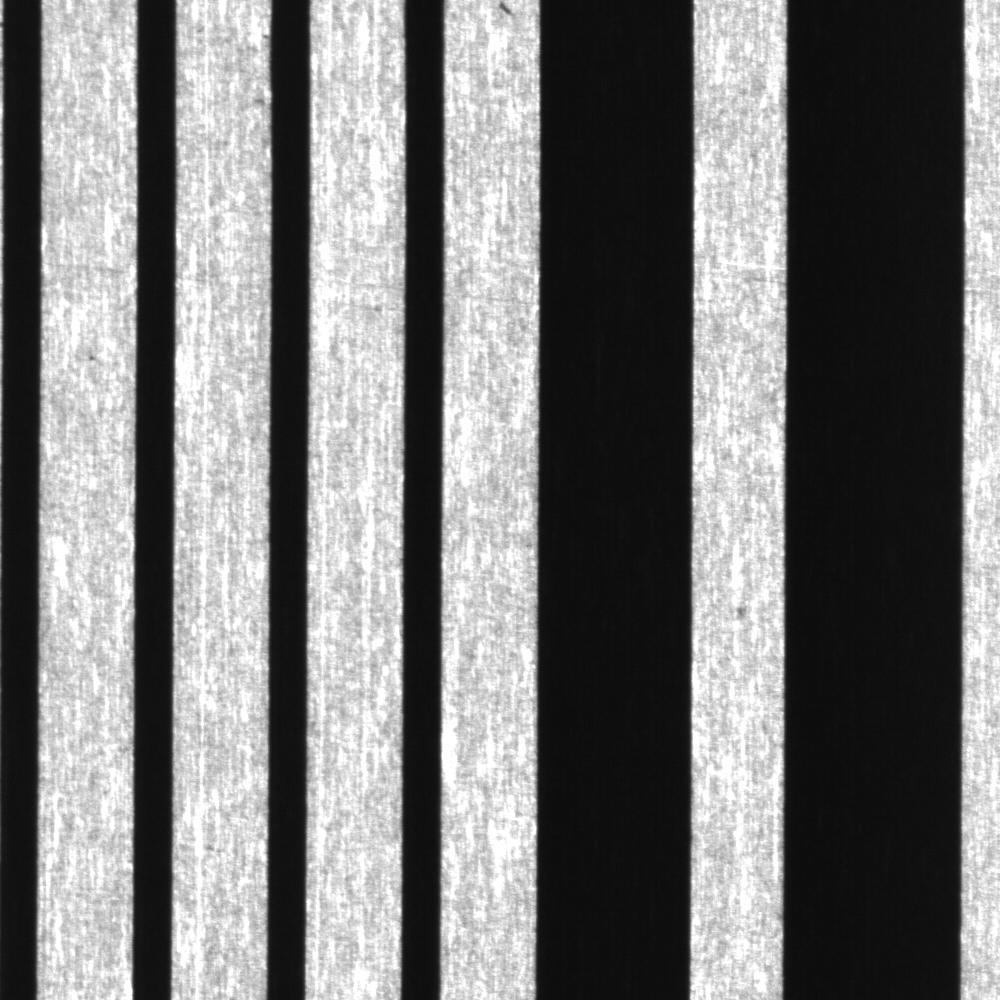Etching: (480, 1, 532, 24), (726, 594, 753, 627)
Pinhole: (78, 346, 104, 365)
Scar: (310, 267, 402, 319), (45, 250, 134, 284), (444, 279, 534, 310), (179, 264, 264, 295)
